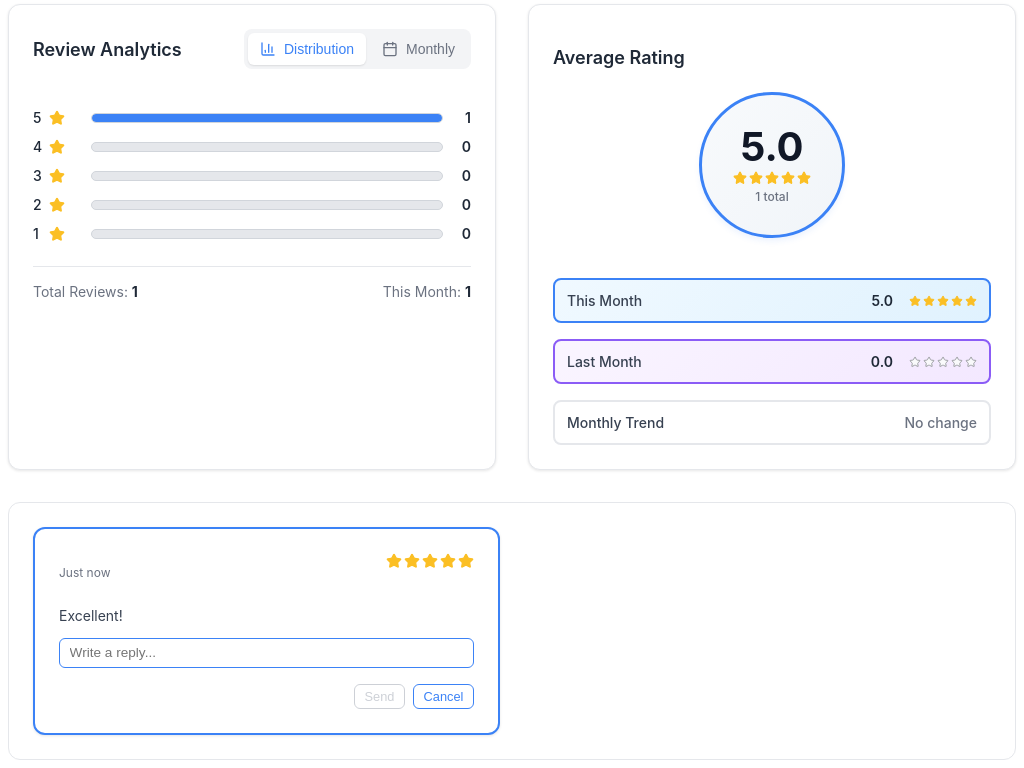
it: VendorReviews Component › allows adding a reply
(page scrolled)
Type "Thank you!" into the field with placeholder "Write a reply..." at {"x": 266, "y": 653}, box [59,638,474,668]
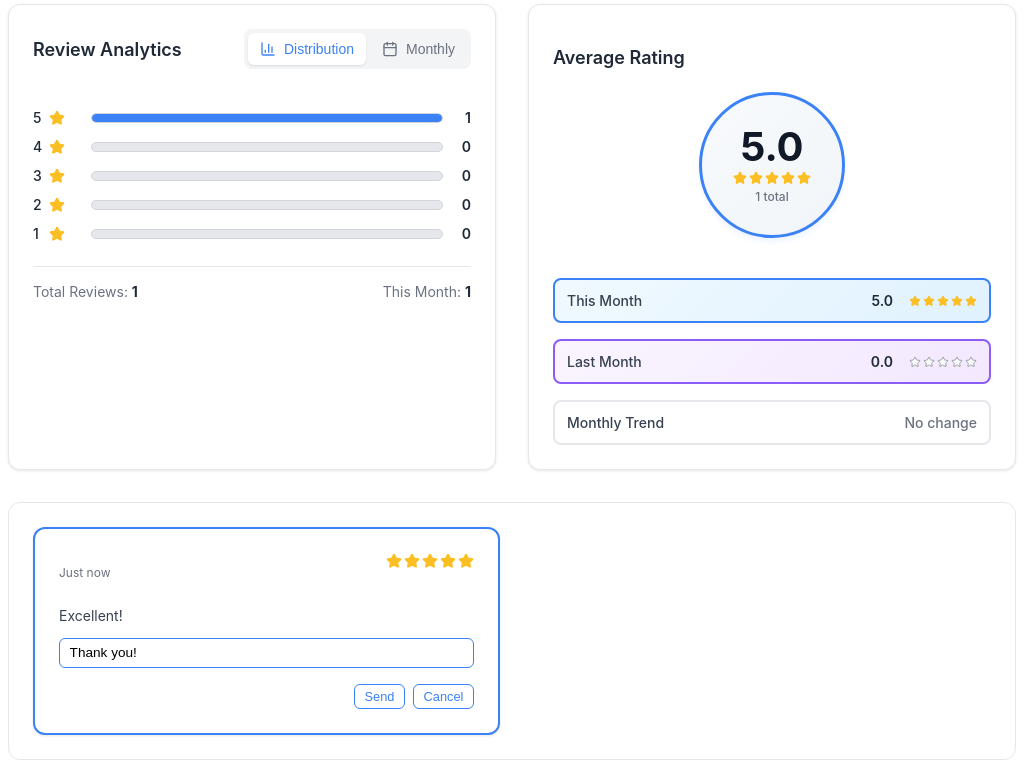
Click the button "Send" at {"x": 379, "y": 696}, box [354,684,405,709]
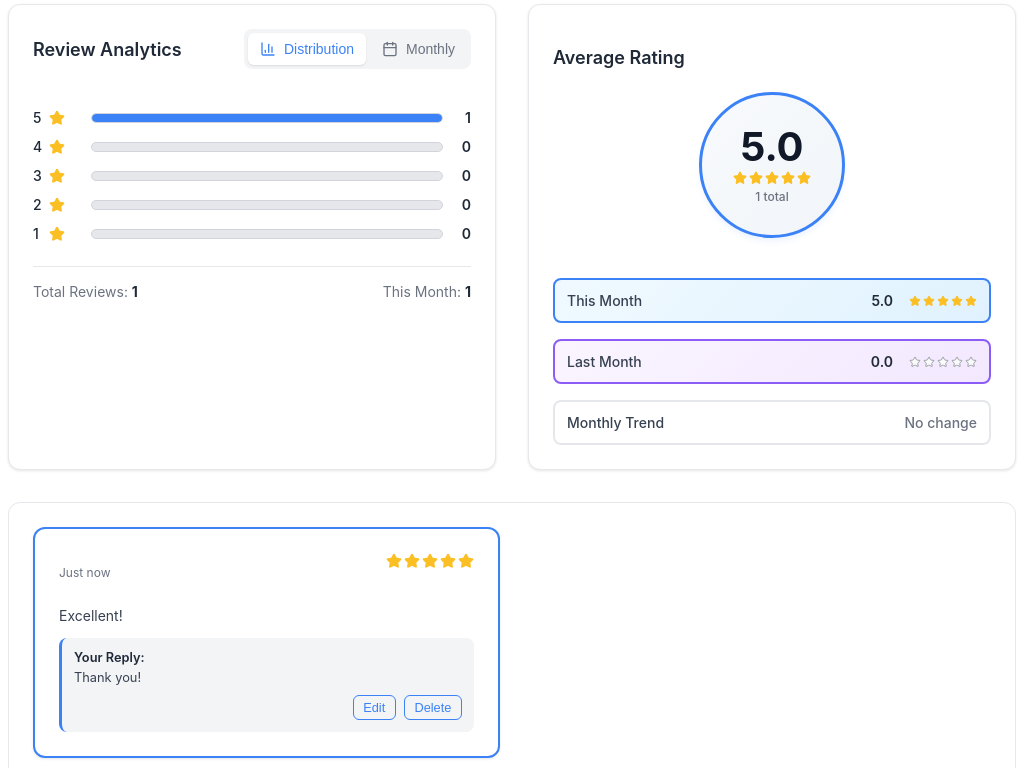
Now the text "Your Reply:" is shown, box [74,650,145,665]
Now the text "Thank you!" is shown, box [74,670,141,685]
